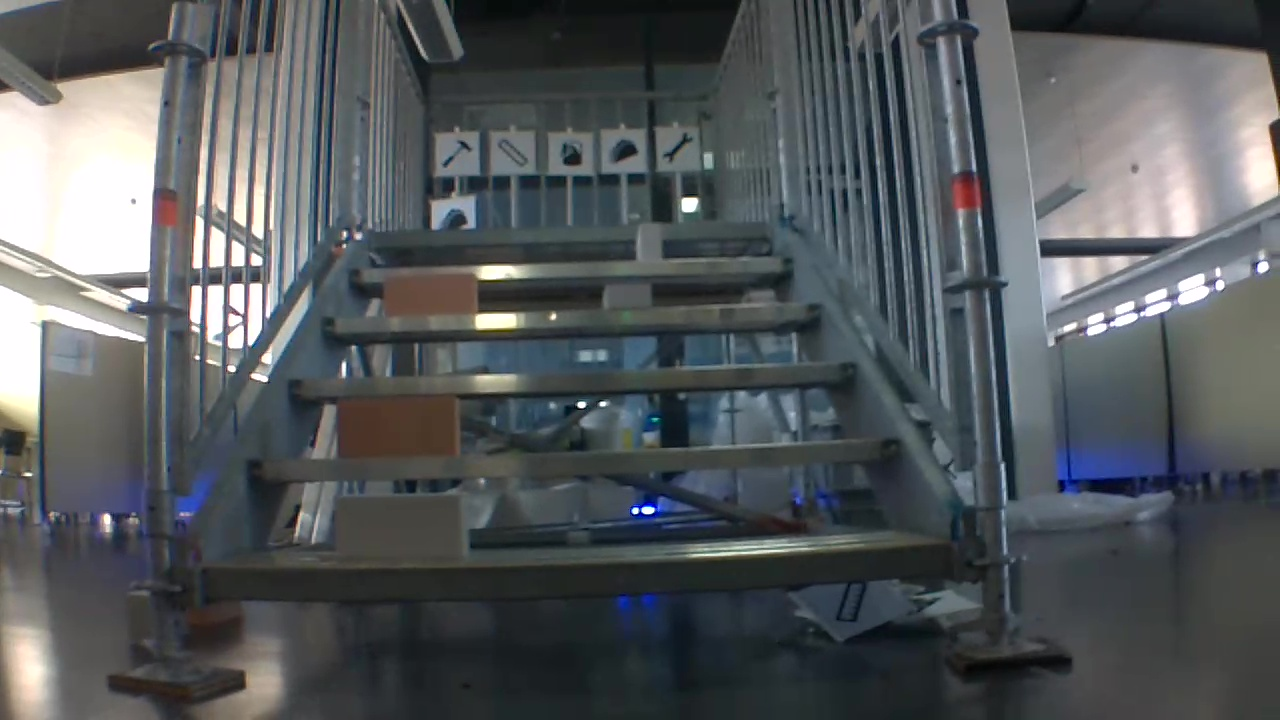brick: (337, 496, 466, 558), (338, 396, 459, 454), (384, 274, 477, 314), (125, 591, 149, 638), (604, 283, 650, 306), (636, 222, 661, 259)
bucket: (551, 135, 586, 169)
edge: (199, 541, 951, 598), (245, 434, 898, 481), (287, 360, 857, 394), (320, 303, 822, 332), (345, 256, 796, 281), (368, 225, 770, 243)
hammer: (438, 136, 474, 170)
ruler: (492, 132, 532, 171)
stairs: (108, 2, 1069, 706)
steps: (198, 216, 958, 614)
taco: (430, 203, 473, 230), (607, 134, 641, 166)
wrench: (660, 127, 695, 169)
